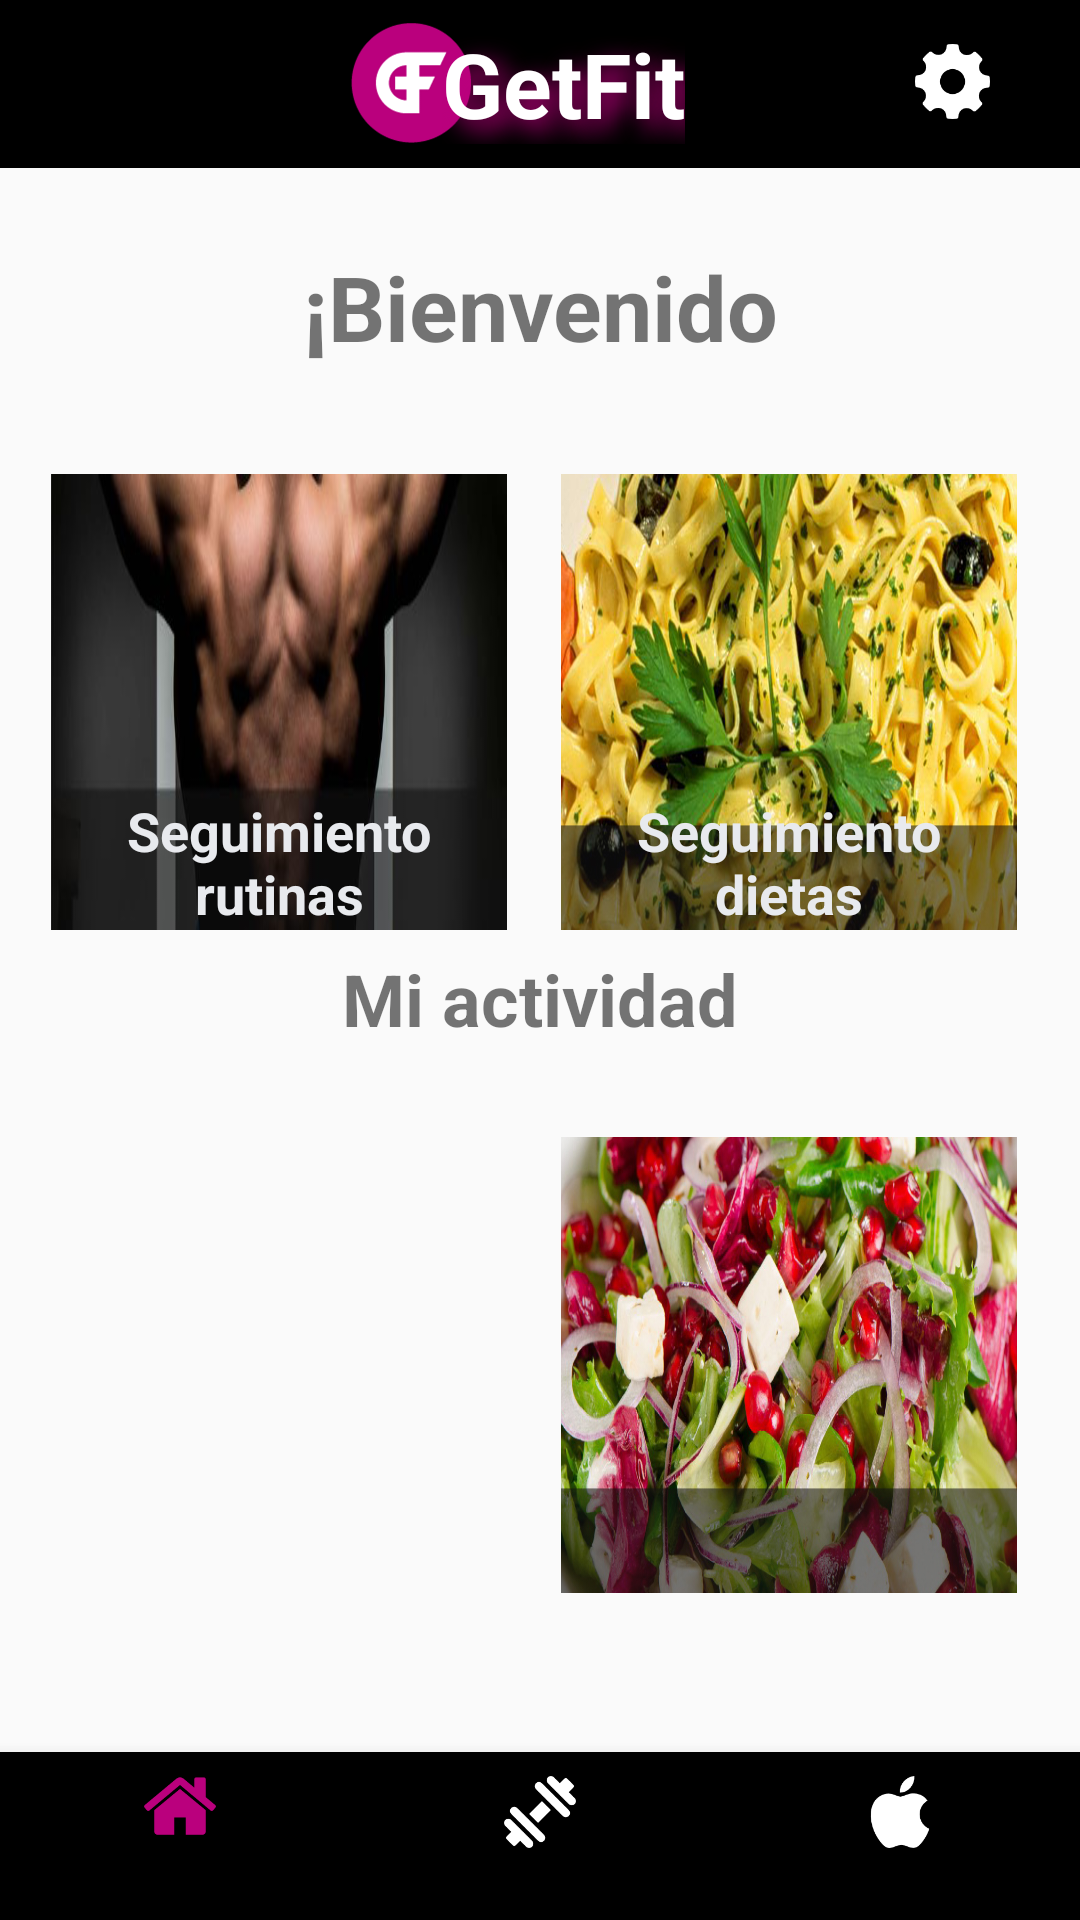

Icons on this 1080*1920 Android screen, each with its box as box=[x1, y1, x2, y2]:
ajustes: box=[915, 44, 990, 119]
